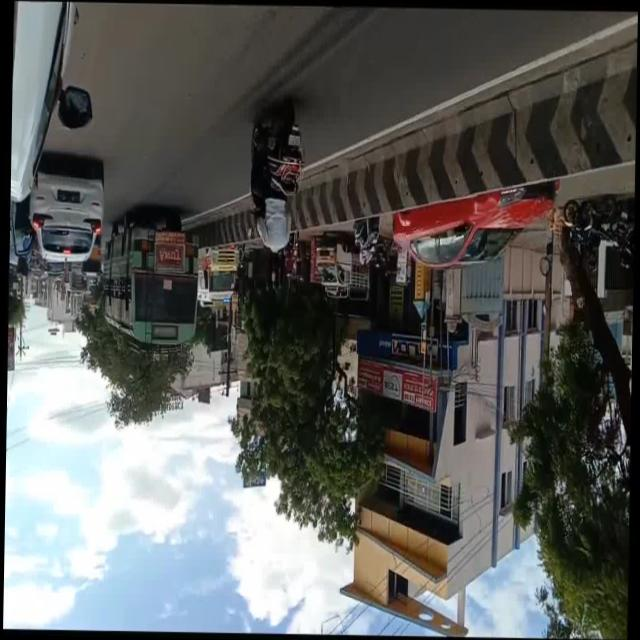ambulance: (200, 241, 243, 304)
